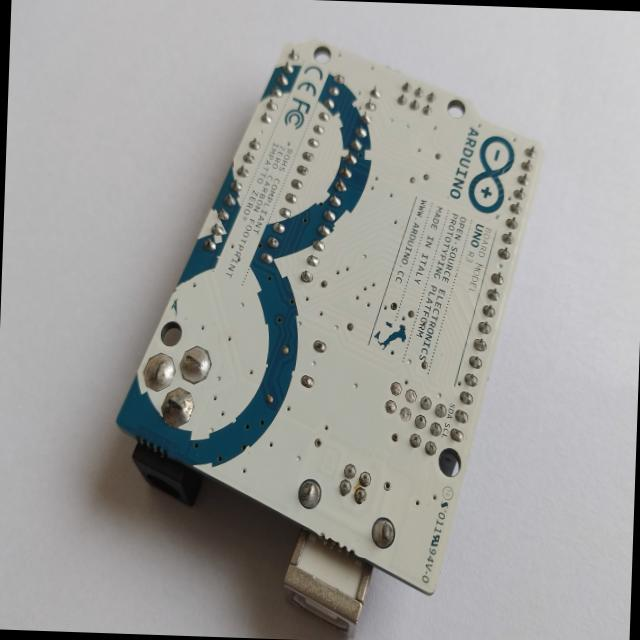arduino: (106, 13, 553, 640)
